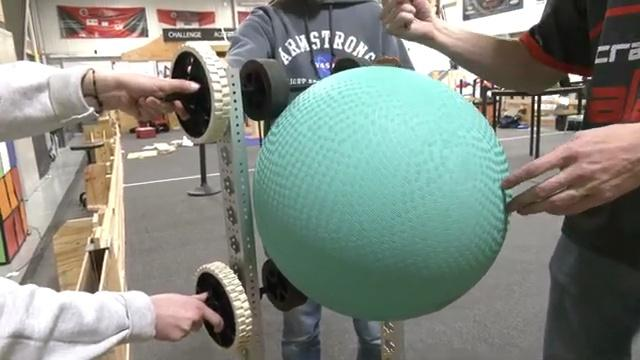ALGAE: (250, 63, 513, 322)
